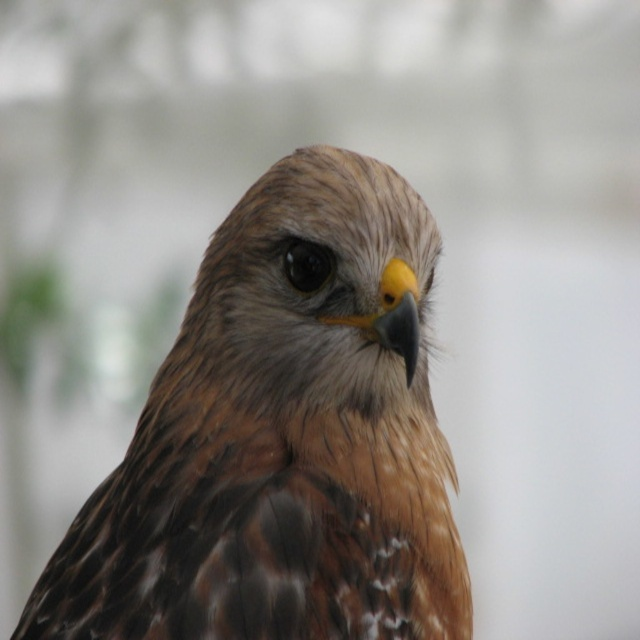Eagle: (9, 143, 476, 639)
